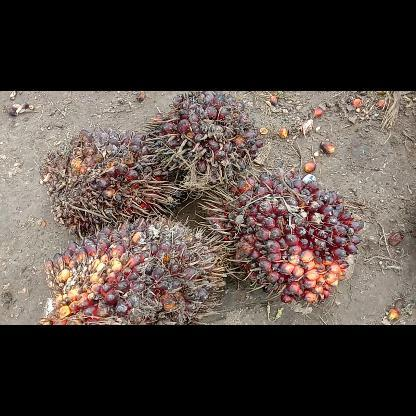TBS masak: (196, 170, 360, 302), (39, 214, 226, 324), (39, 126, 181, 238), (143, 91, 261, 189)
